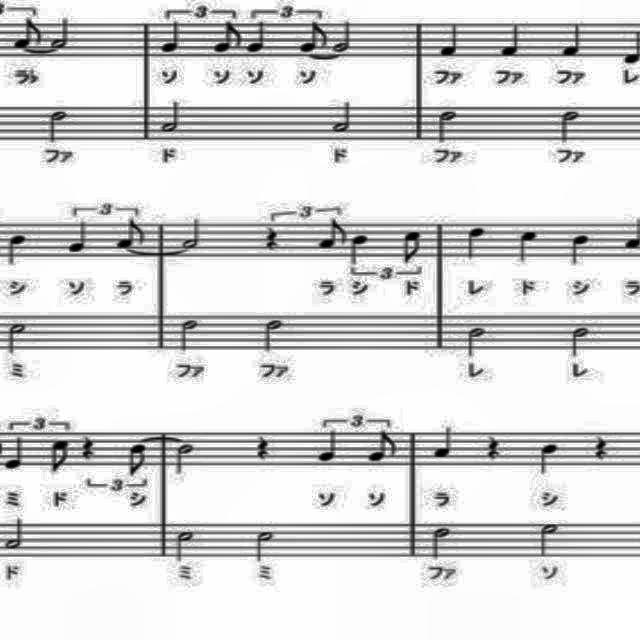Eighth-note: (364, 429, 401, 466), (112, 216, 150, 252), (314, 217, 350, 253), (8, 15, 44, 50), (399, 218, 425, 266), (44, 434, 72, 478), (296, 20, 332, 54), (211, 18, 243, 54), (126, 442, 150, 480)
Half-note: (328, 96, 359, 138), (428, 520, 456, 564), (536, 518, 564, 562), (432, 104, 462, 144), (566, 324, 598, 360), (44, 104, 72, 144), (330, 17, 358, 55), (158, 99, 186, 137), (558, 109, 586, 147), (171, 440, 197, 480), (177, 315, 203, 353), (464, 323, 490, 361), (6, 319, 30, 359), (260, 316, 284, 356), (48, 14, 72, 52), (254, 528, 278, 566), (4, 515, 26, 553), (180, 213, 202, 250), (175, 528, 197, 564)
Quarter-note: (536, 434, 564, 480), (156, 18, 187, 58), (560, 16, 588, 59), (64, 218, 94, 258), (313, 426, 343, 466), (498, 20, 526, 60), (459, 222, 487, 262), (438, 17, 464, 59), (514, 226, 542, 264), (569, 231, 595, 271), (429, 422, 455, 462), (348, 228, 372, 268), (4, 435, 28, 473), (243, 22, 270, 54), (6, 232, 30, 268)
Quarter-rest: (76, 428, 102, 464), (250, 433, 274, 462), (259, 224, 283, 253), (591, 431, 613, 462), (484, 429, 504, 461)
